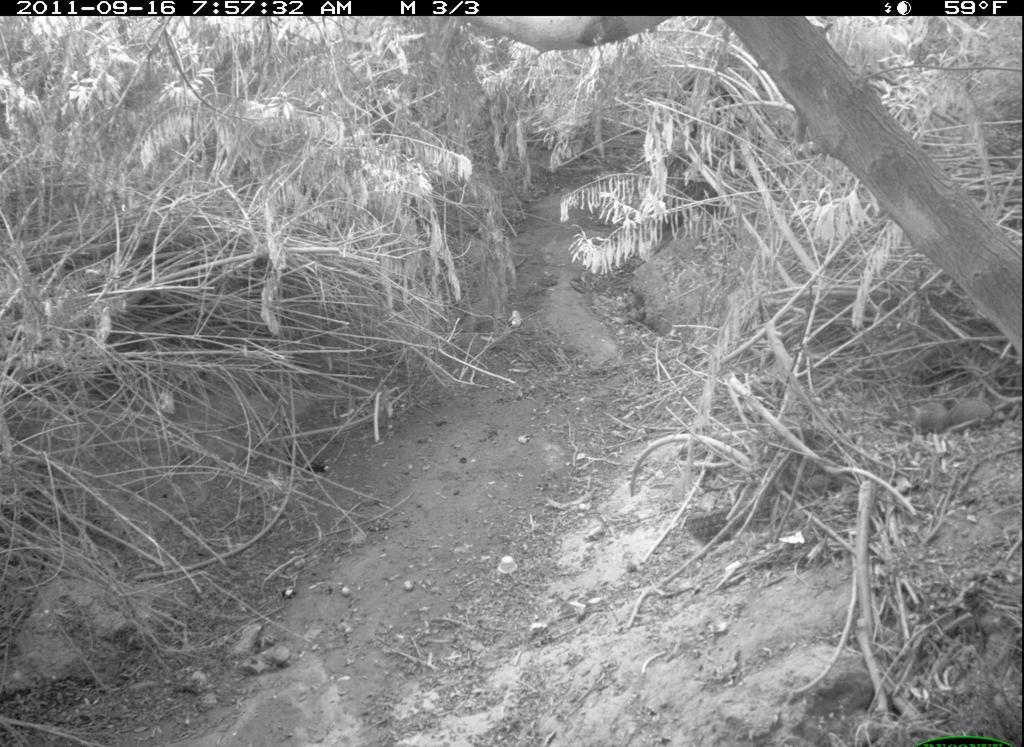squirrel: (891, 393, 1000, 439)
